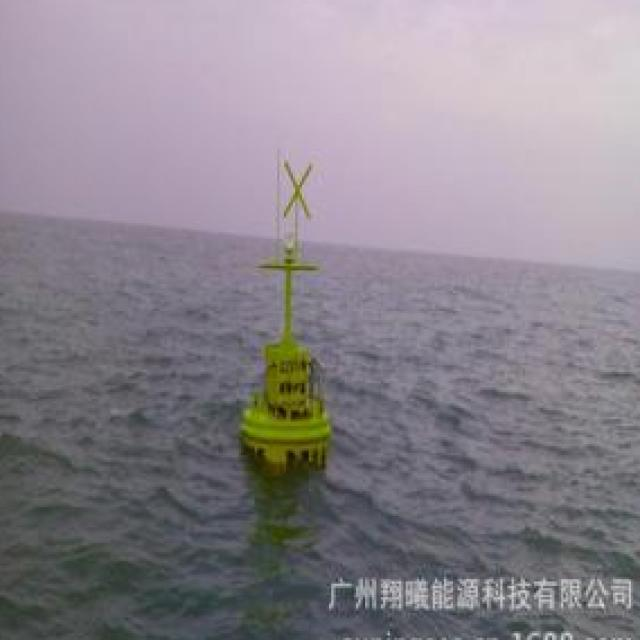buoy: (230, 138, 340, 472)
